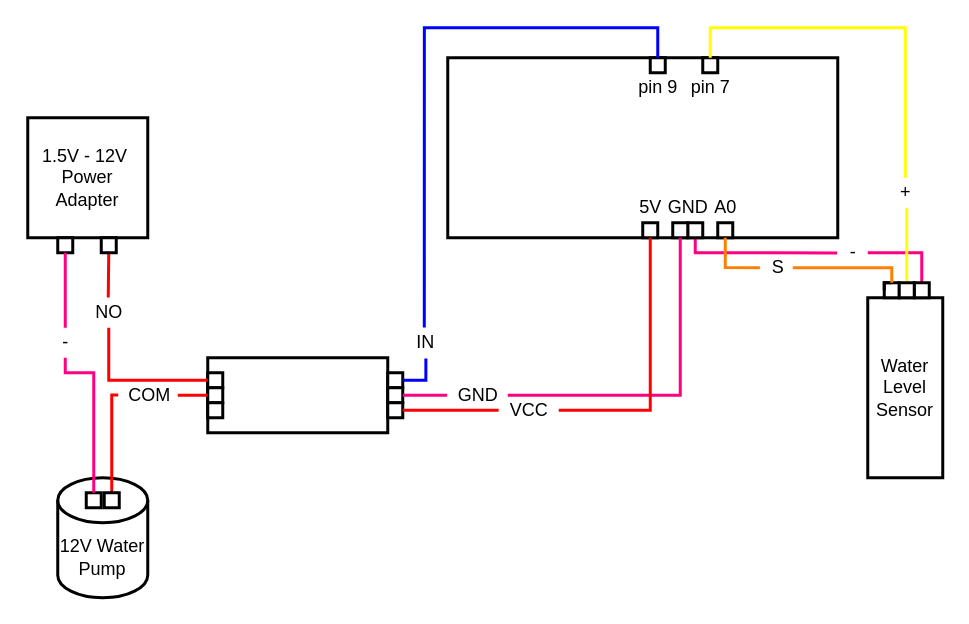
Some shapes in this 969 by 624 pixel diagram are drawn without their labels. The shapes that lost their labels are listed below. From the top down, each one's box as (x1, y1, x2, y2) in pixels, then its label:
(446, 56, 838, 238): Arduino UNO
(206, 356, 388, 434): Relay Module
